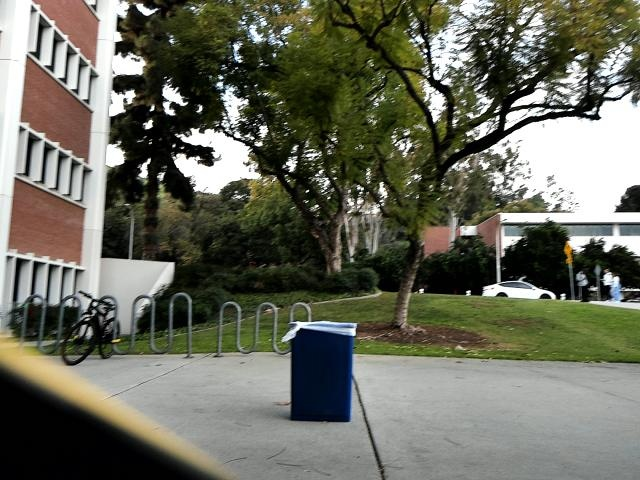trashcan_open: (289, 316, 352, 425)
